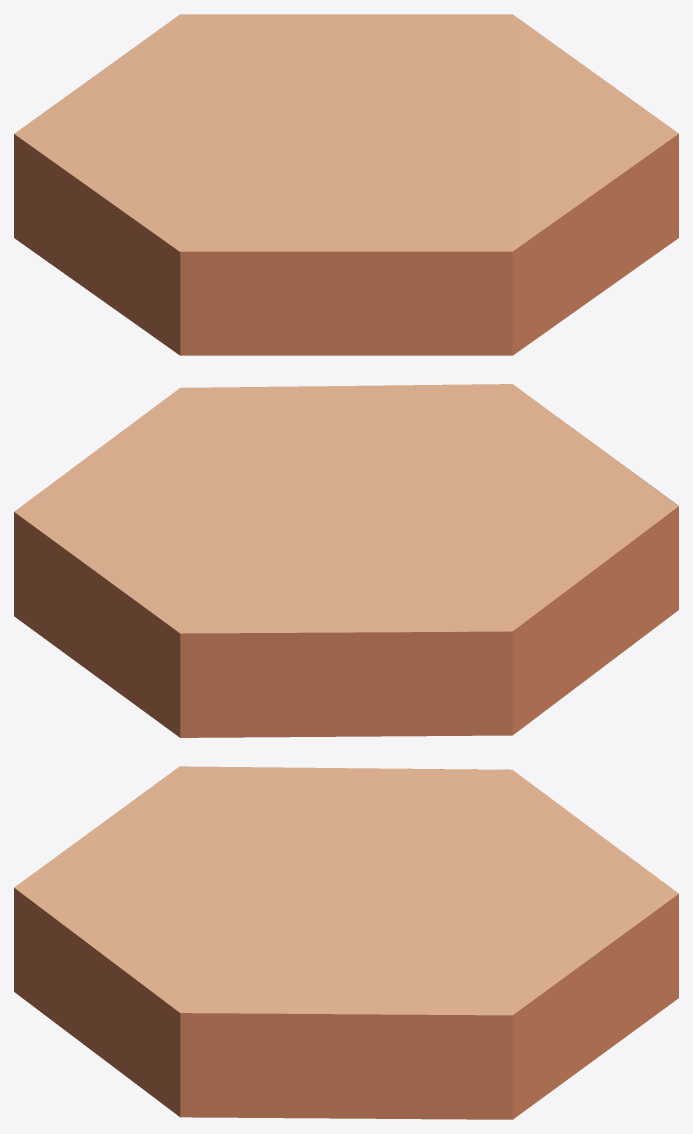
Rendered from sand.glb.
The picture shows the model from 3 angles, top to bottom: view 1: azimuth 30°, elevation 25°; view 2: azimuth 150°, elevation 25°; view 3: azimuth 270°, elevation 25°; orthographic projection.
Parts seen in each view (by area): view 1: sand; view 2: sand; view 3: sand.
Boxes of the visible parts, x1,y1,x2,y2 form: sand: [14, 14, 678, 355]; sand: [14, 384, 678, 737]; sand: [14, 766, 678, 1119].
Bounding box in the file's own units: 1 × 0.2118 × 1.15.
1 material, 1 textured.
